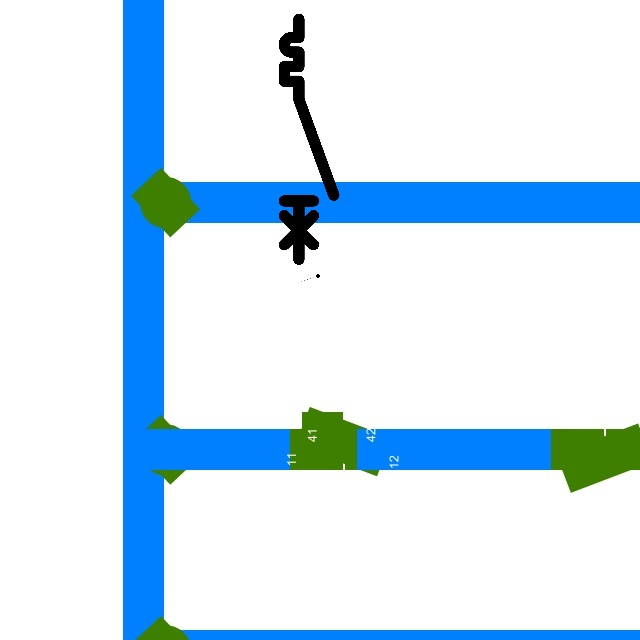interruptor_termomagnetico: (278, 13, 339, 265)
